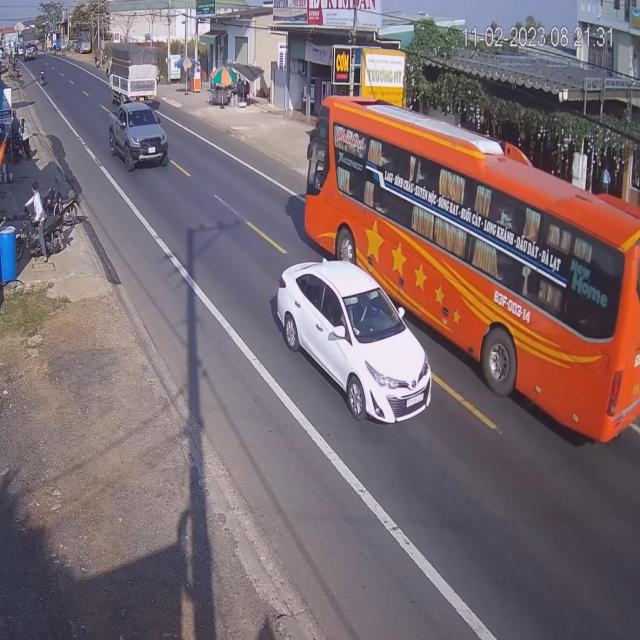bus: (301, 90, 640, 451)
car: (270, 262, 430, 427), (107, 98, 168, 176)
truck: (106, 47, 158, 112)
